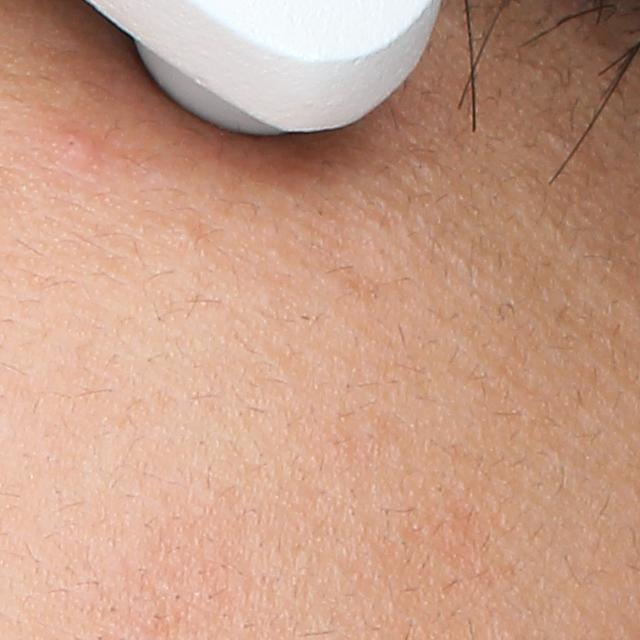comedo: (172, 219, 209, 247)
papule: (58, 128, 98, 164)
